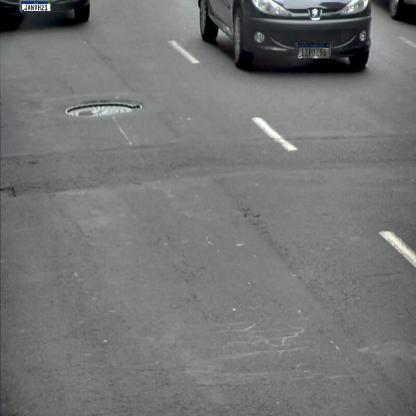PlacaM: (298, 43, 330, 59), (21, 1, 51, 12)
